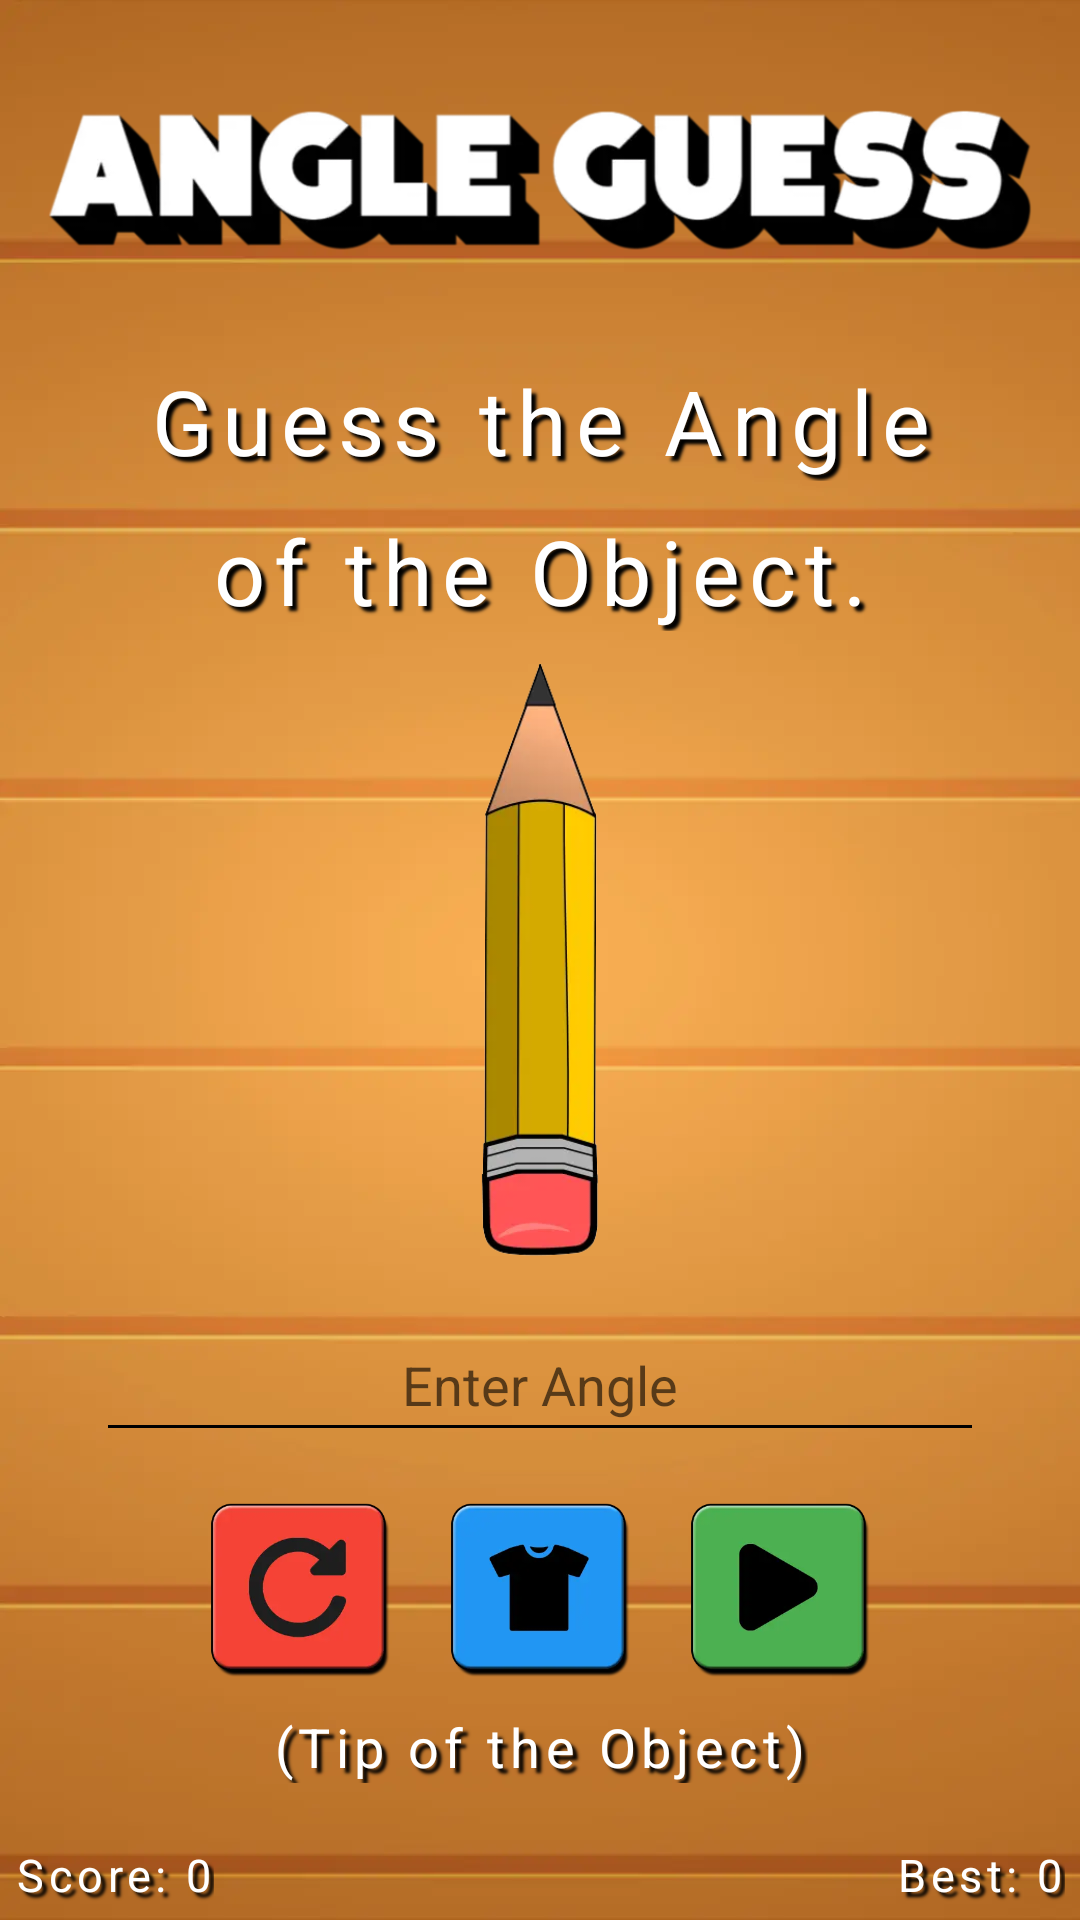

Locate icon controls on the screen. Image size 1080 × 1920, boxes as bbox=[x1, y1, x2, y2].
restart: bbox=[210, 1504, 390, 1676]
skin: bbox=[450, 1503, 630, 1676]
start: bbox=[690, 1504, 870, 1676]
